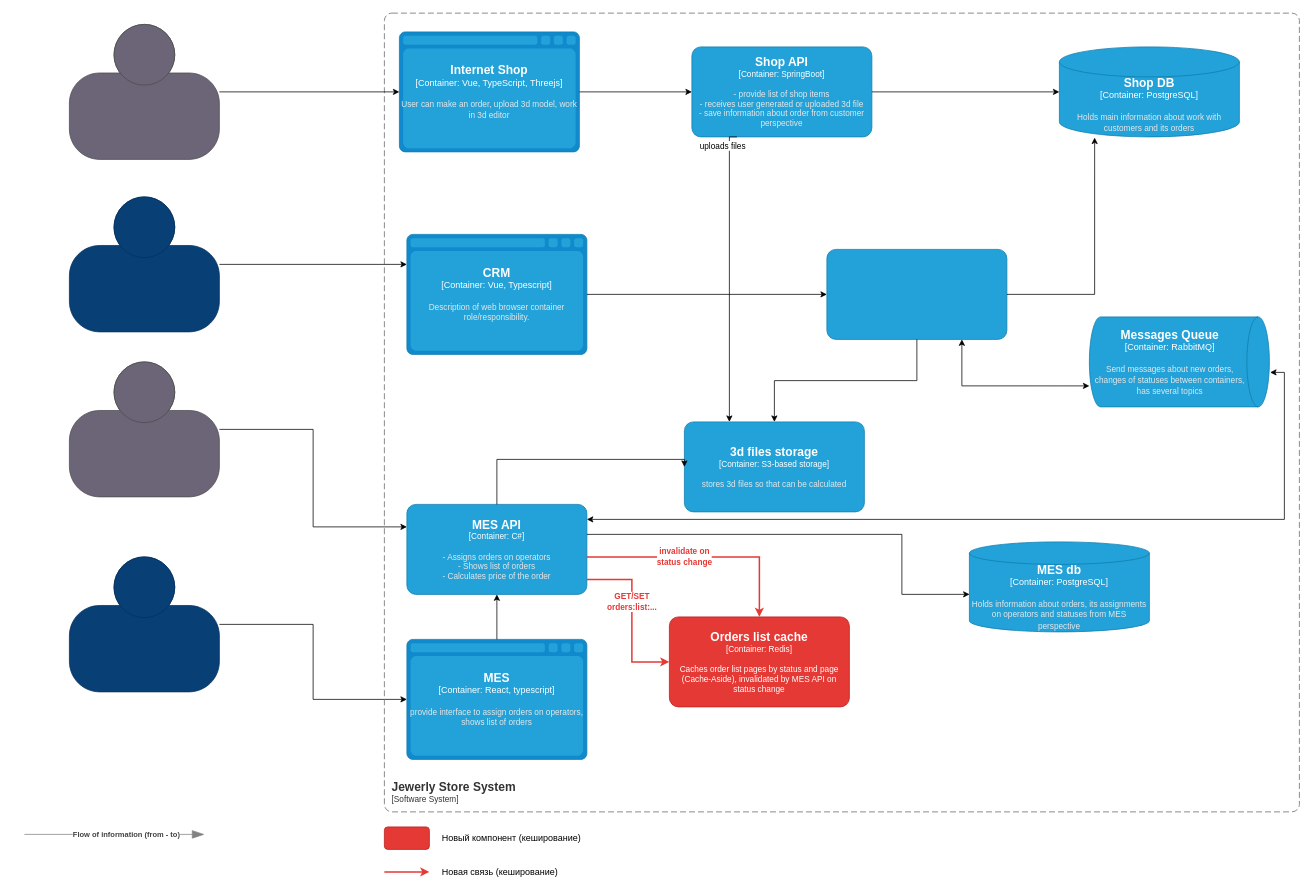
Image size: 1313x896. Some labels were removed from this diagram. The centre of each missing label's shape, as x and y in pixels:
API user [Person] Description of external person.: (144,429)
CRM API [Container: SpringBoot] Description of container role/responsibility.: (916,294)
Customer [Person] Description of external person.: (144,91)
Operator [Person] Takes order in work, manufactures jewerly: (144,624)
Seller [Person] Operates with order, confirms manufacturing for the user: (144,264)
